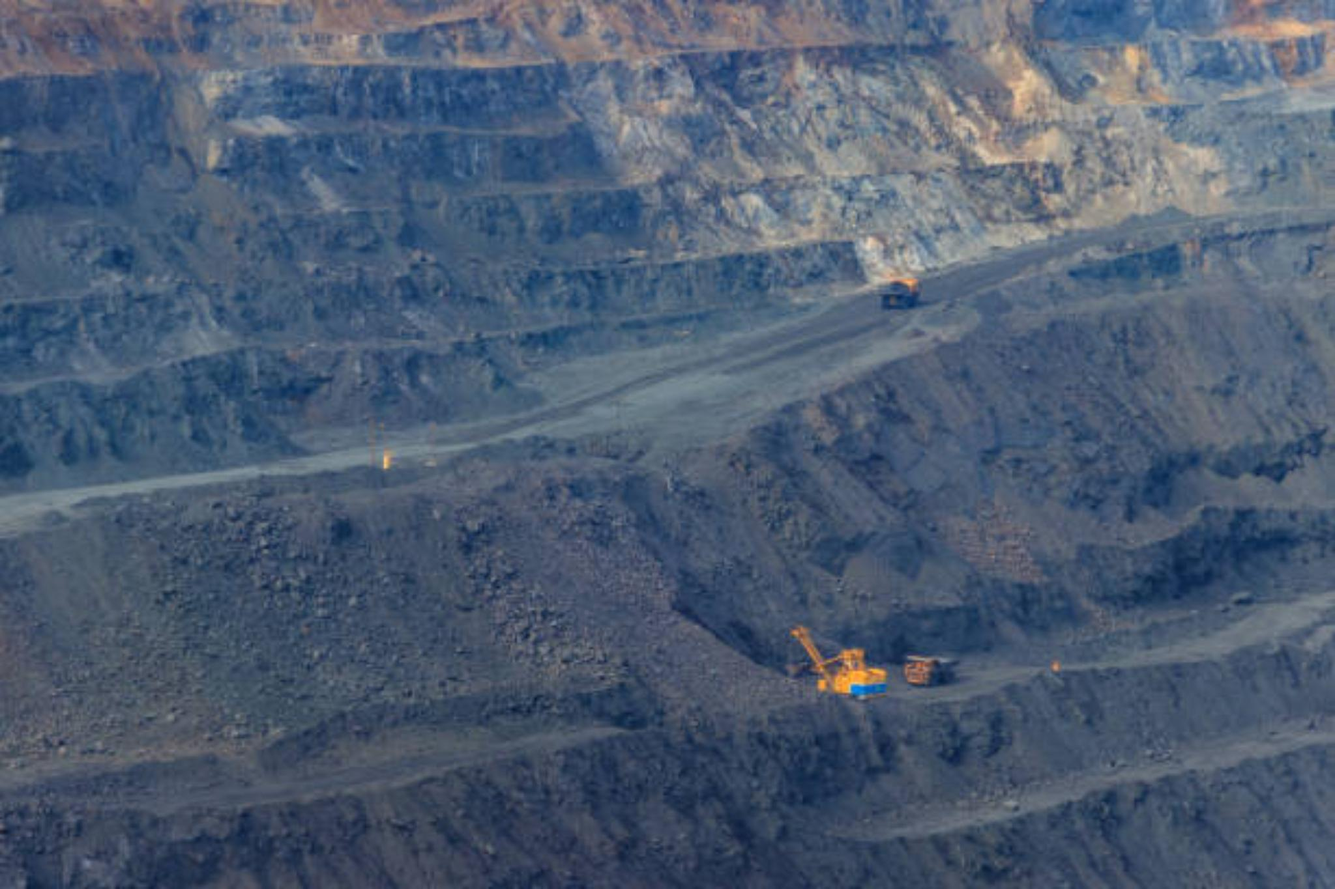excavator: (785, 618, 892, 701)
truck: (896, 646, 984, 691), (875, 262, 934, 309)
